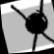not correct: (8, 0, 54, 53)
